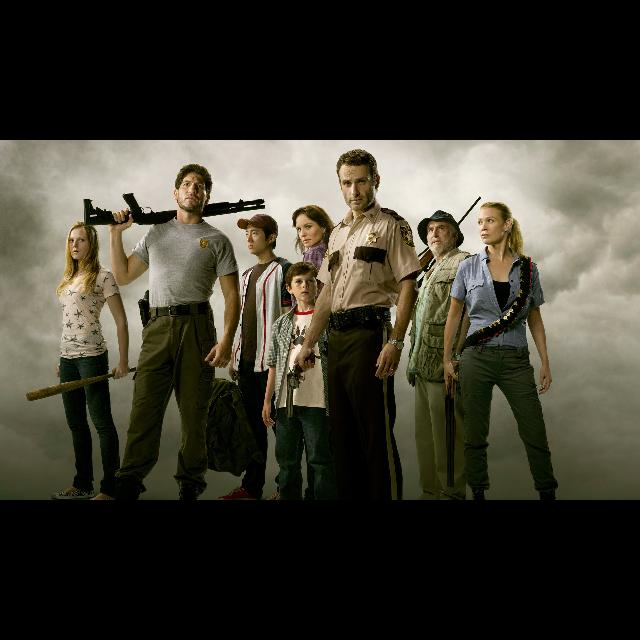head: (336, 153, 382, 211), (478, 201, 514, 245), (173, 169, 210, 211), (285, 262, 321, 304), (296, 204, 330, 248), (243, 218, 279, 255), (427, 213, 459, 254), (68, 223, 99, 260)
person: (282, 202, 332, 500)
